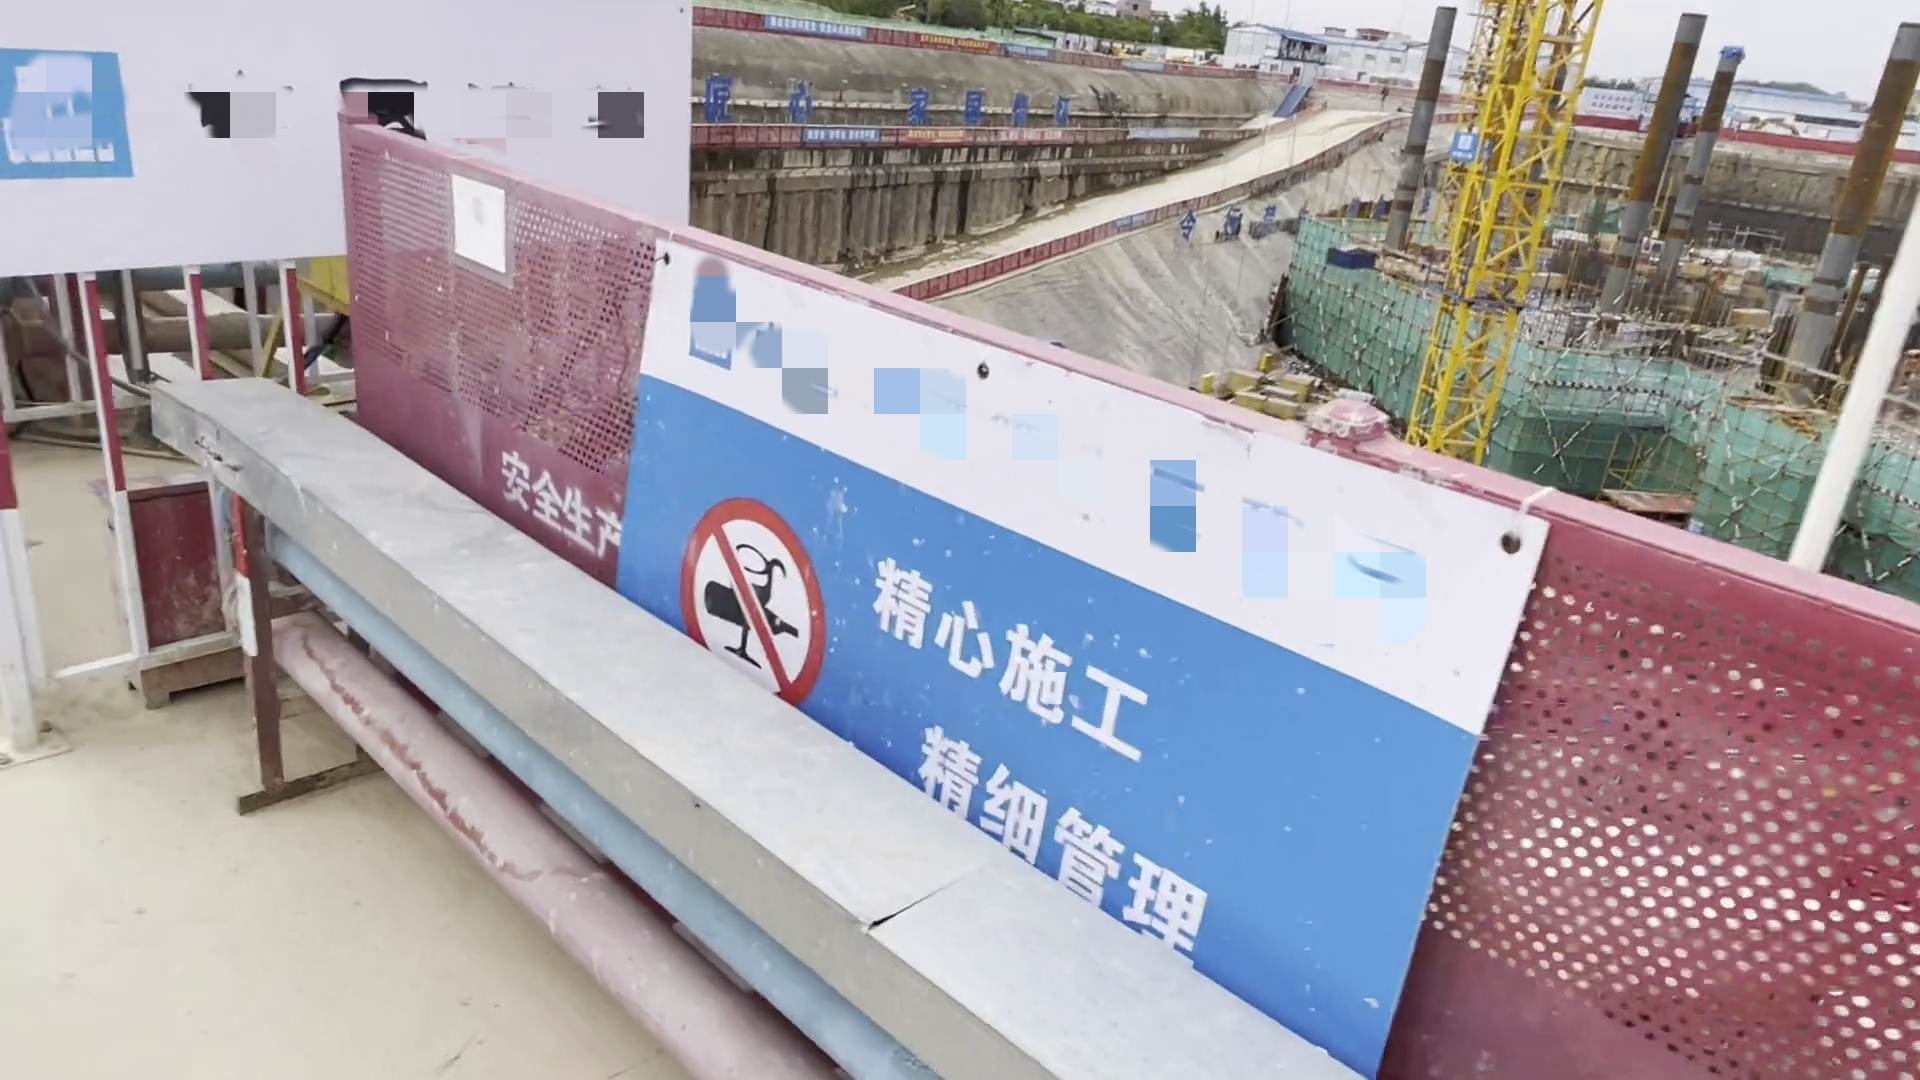fence: (334, 107, 636, 555)
slogan: (621, 207, 1586, 1080)
